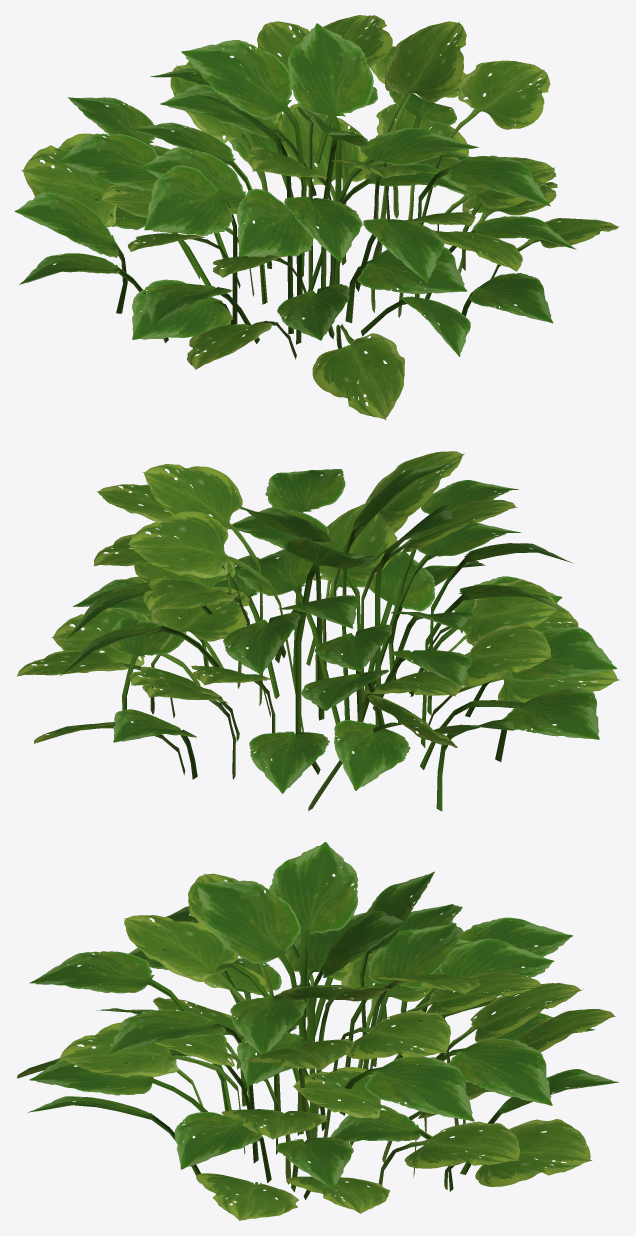
Rendered from NaturePlant01_3.FBX.
3 views of the same model, one above another, from view 1: azimuth 30°, elevation 25°; view 2: azimuth 150°, elevation 25°; view 3: azimuth 270°, elevation 25° (orthographic). The views are drawn at different scales.
Parts seen in each view (by area): view 1: NaturePlant01_3; view 2: NaturePlant01_3; view 3: NaturePlant01_3.
Part boxes in pixels (x1,y1,x2,y2): NaturePlant01_3: (14, 15, 618, 420); NaturePlant01_3: (17, 451, 619, 811); NaturePlant01_3: (17, 842, 618, 1221).
Size of the model in its own units: 0.7124 by 0.3182 by 0.6934.
